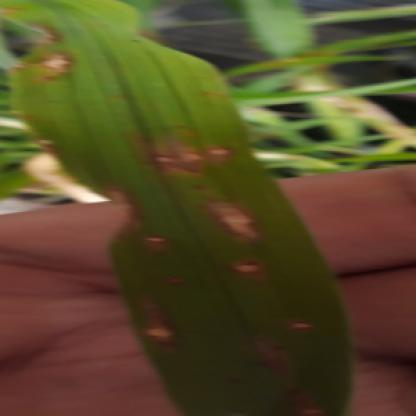Rice blast: (183, 184, 276, 245), (146, 137, 247, 169), (27, 48, 90, 98), (139, 294, 182, 367), (231, 258, 277, 287), (138, 230, 173, 262)
